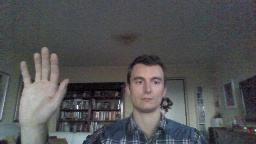Mano_aperta: (15, 44, 70, 129)
